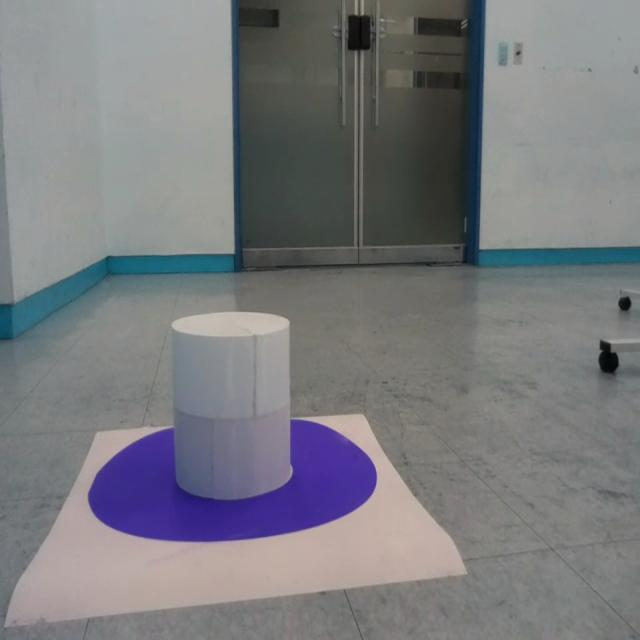cylinder: (171, 311, 291, 500)
